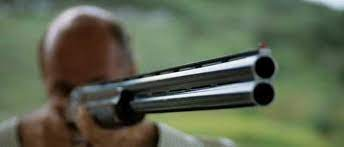weapon: (71, 47, 281, 126)
